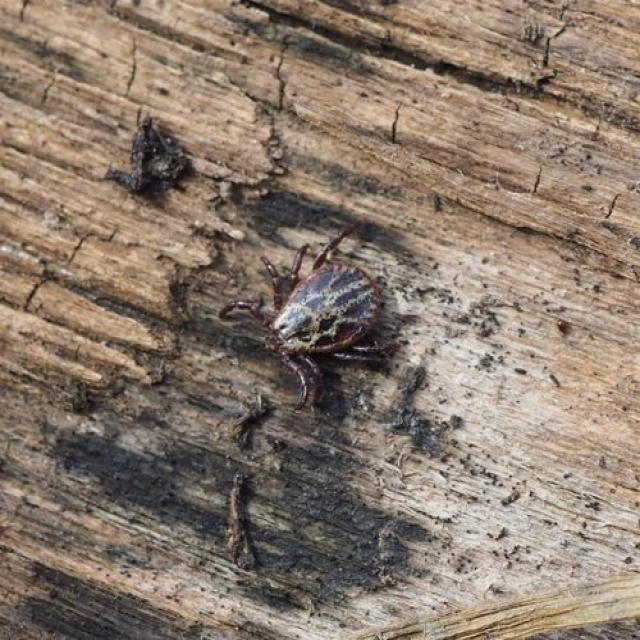Dermacentor Reticulatus-M: (220, 223, 396, 410)
